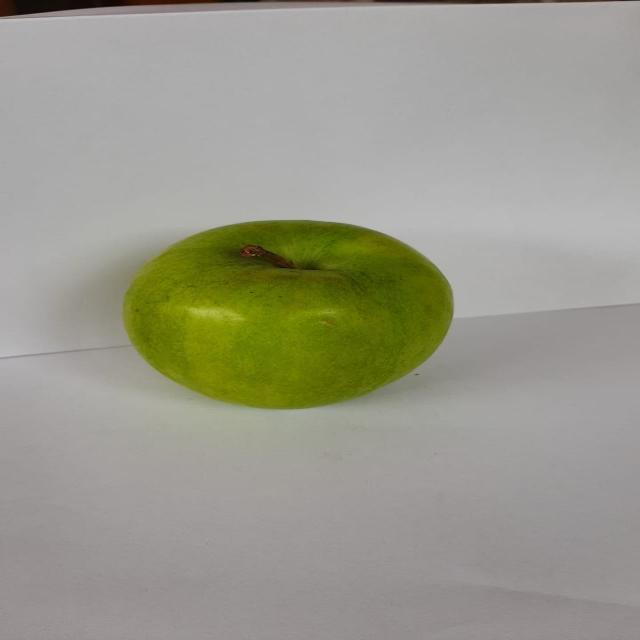50-_ripeness: (108, 216, 470, 418)
